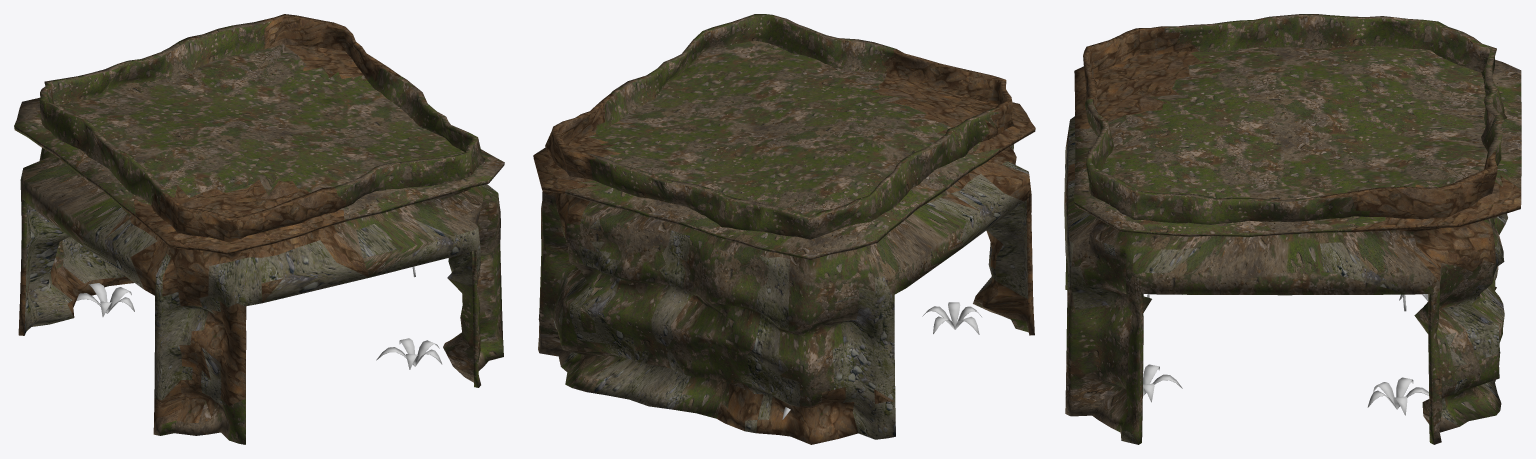
Rendered from cavern_0_organic.obj.
3 views of the same model, side by side, from view 1: azimuth 30°, elevation 25°; view 2: azimuth 150°, elevation 25°; view 3: azimuth 270°, elevation 25° (orthographic). The views are drawn at different scales.
Visible parts, largest first — view 1: cavern_0_Rock_skin, cavern_0_Soft_details; view 2: cavern_0_Rock_skin, cavern_0_Soft_details; view 3: cavern_0_Rock_skin, cavern_0_Soft_details.
Part boxes in pixels (x1,y1,x2,y2): cavern_0_Rock_skin: [14, 14, 504, 444]; cavern_0_Soft_details: [76, 266, 442, 369]; cavern_0_Rock_skin: [533, 14, 1035, 444]; cavern_0_Soft_details: [782, 302, 981, 419]; cavern_0_Rock_skin: [1064, 14, 1521, 444]; cavern_0_Soft_details: [1143, 294, 1428, 415].
Bounding box in the file's own units: 599 × 384 × 619.
